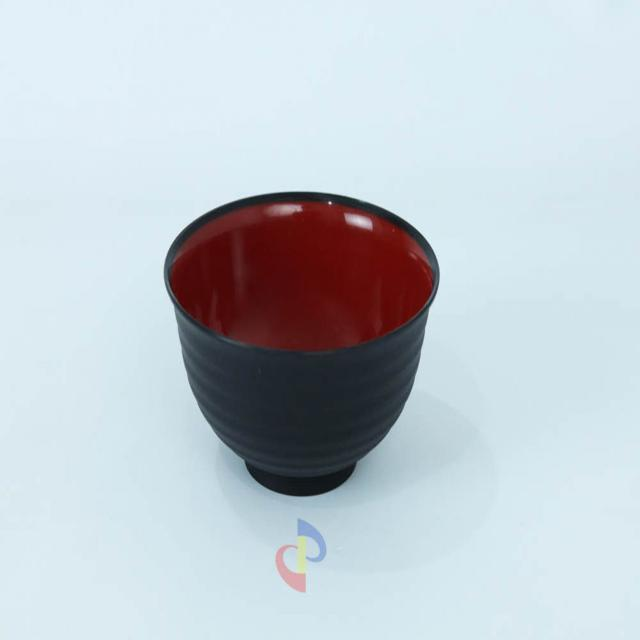Mangkok: (150, 172, 460, 510)
